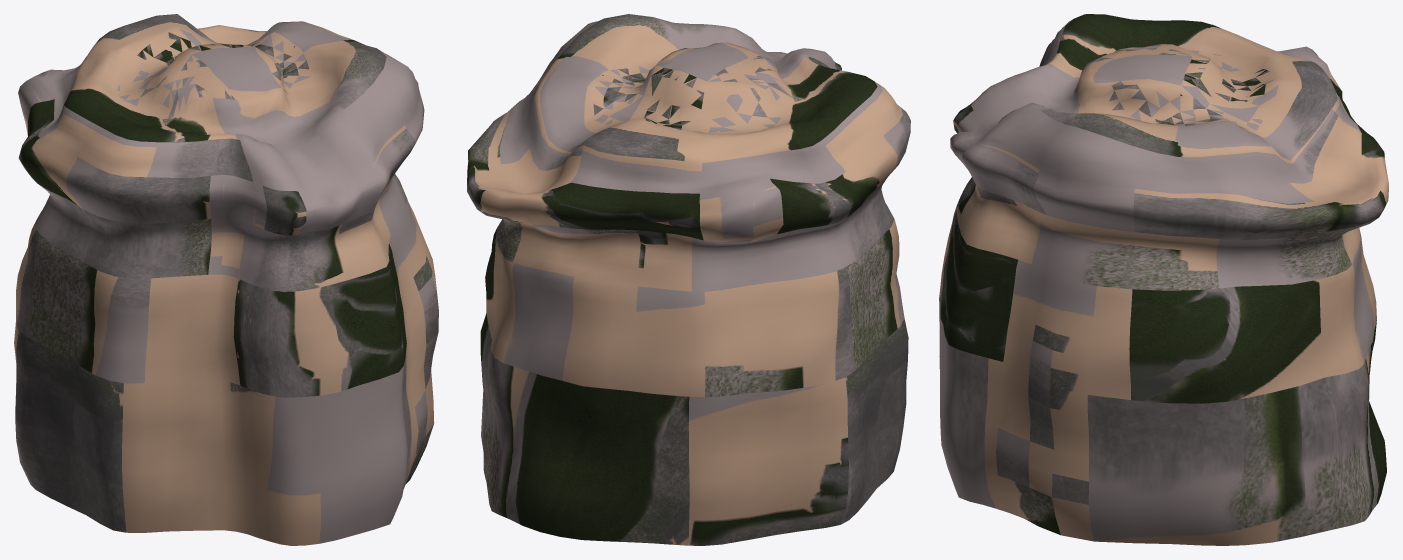
Rendered from SM_Island3_L.fbx.
The picture shows the model from 3 angles, left to right: view 1: azimuth 30°, elevation 25°; view 2: azimuth 150°, elevation 25°; view 3: azimuth 270°, elevation 25°; orthographic projection.
Parts seen in each view (by area): view 1: Line011; view 2: Line011; view 3: Line011.
Part boxes in pixels (x1=…): Line011: x1=14, y1=14, x2=438, y2=545; Line011: x1=467, y1=14, x2=910, y2=545; Line011: x1=939, y1=14, x2=1388, y2=545.
Size of the model in its own units: 2174 by 2304 by 2315.
